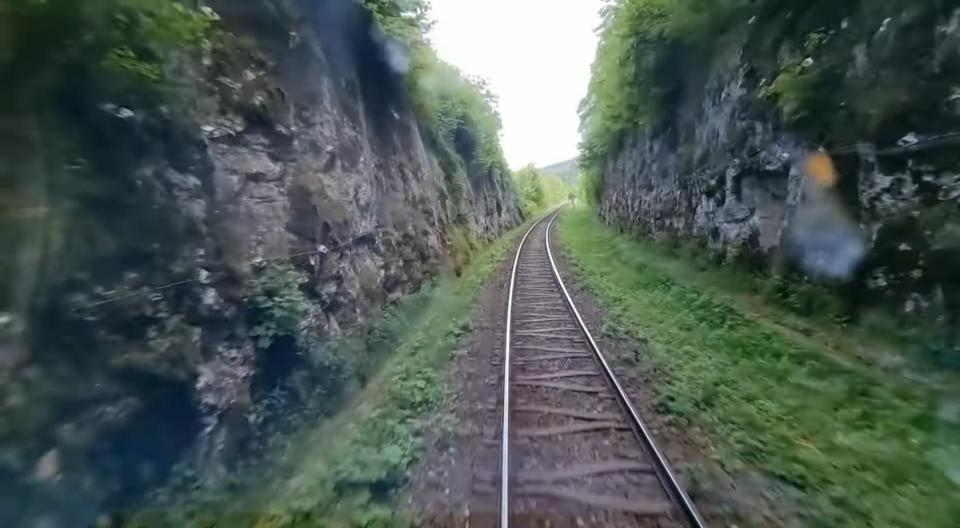Plant: (560, 205, 960, 528), (256, 235, 508, 528)
